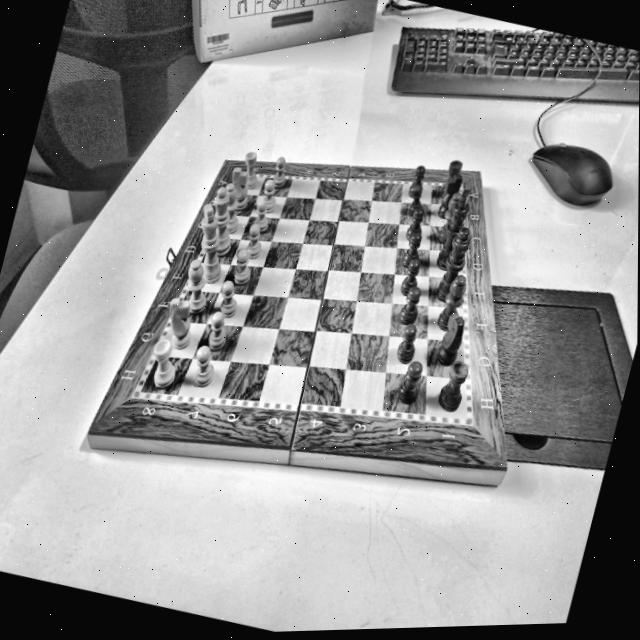black-bishop: (433, 269, 469, 335), (436, 187, 463, 245)
black-king: (433, 184, 476, 275)
black-knight: (430, 309, 470, 372), (431, 167, 465, 220)
black-pawn: (396, 358, 426, 407), (397, 282, 426, 327), (392, 321, 422, 364), (396, 254, 425, 297), (398, 227, 426, 269), (403, 206, 427, 244), (406, 161, 429, 198), (404, 181, 426, 217)
black-queen: (431, 224, 474, 305)
black-rook: (432, 355, 473, 415), (438, 156, 463, 198)
white-bishop: (175, 260, 214, 316), (213, 182, 247, 238)
white-king: (181, 201, 237, 287)
white-knight: (157, 295, 201, 350), (221, 164, 255, 213)
white-pawn: (187, 341, 220, 389), (202, 311, 233, 354), (213, 278, 243, 321), (228, 246, 255, 288), (256, 178, 280, 213), (268, 153, 290, 190), (243, 224, 266, 259), (250, 198, 272, 234)
white-queen: (198, 183, 244, 260)
white-rook: (144, 335, 185, 393), (236, 138, 267, 190)
